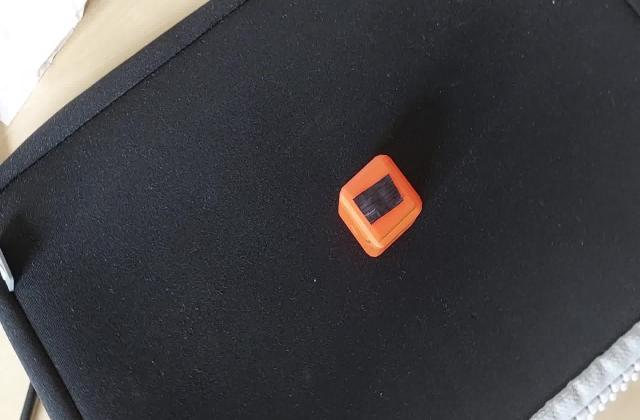black: (347, 173, 409, 225)
sticker: (334, 153, 424, 262)
